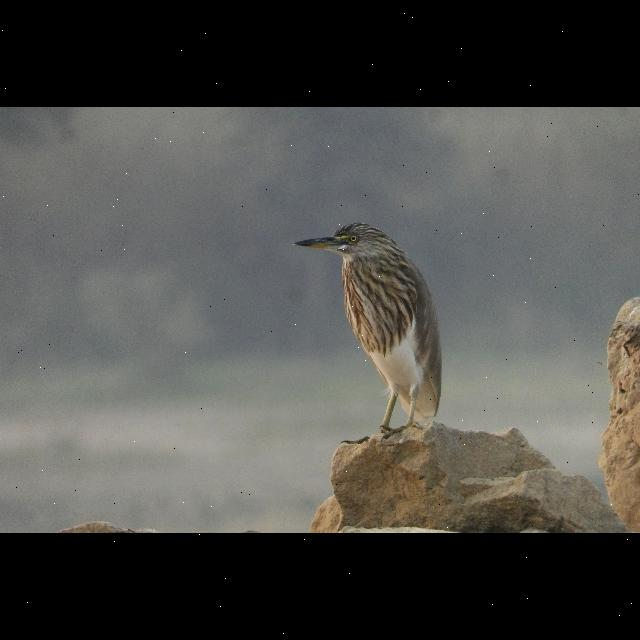heron: (276, 216, 440, 452)
